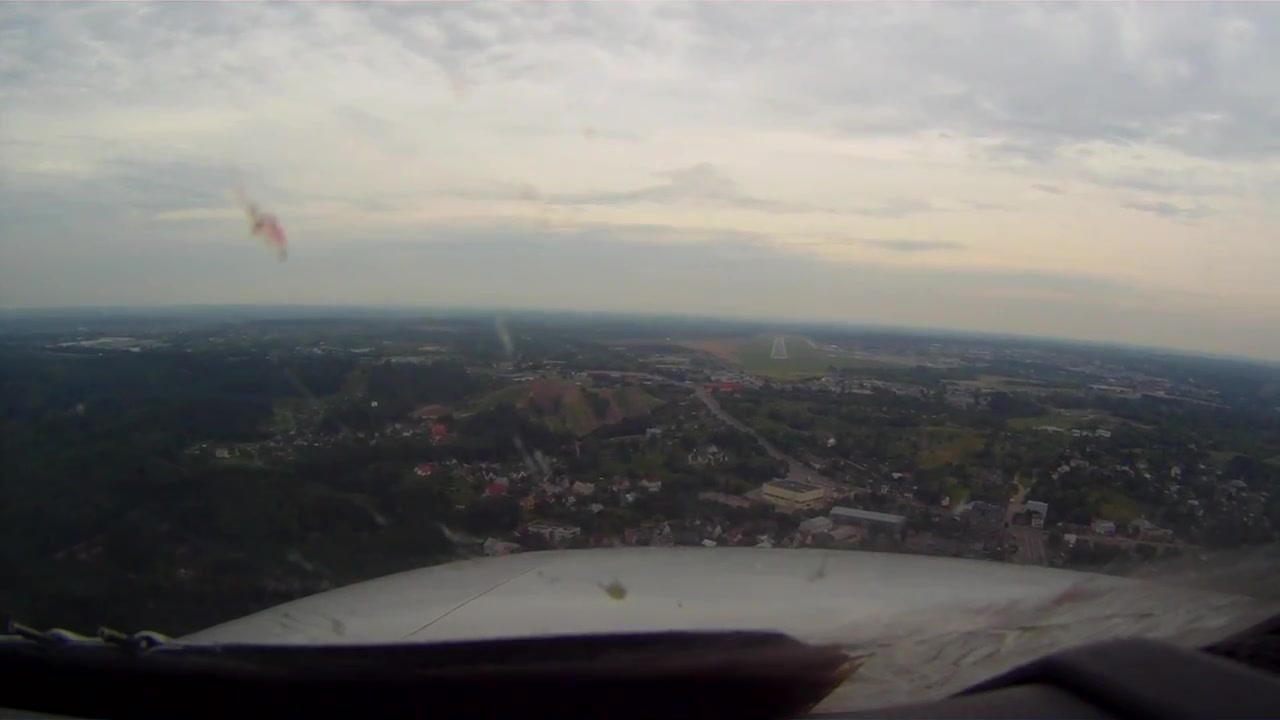runway: (768, 336, 790, 361)
